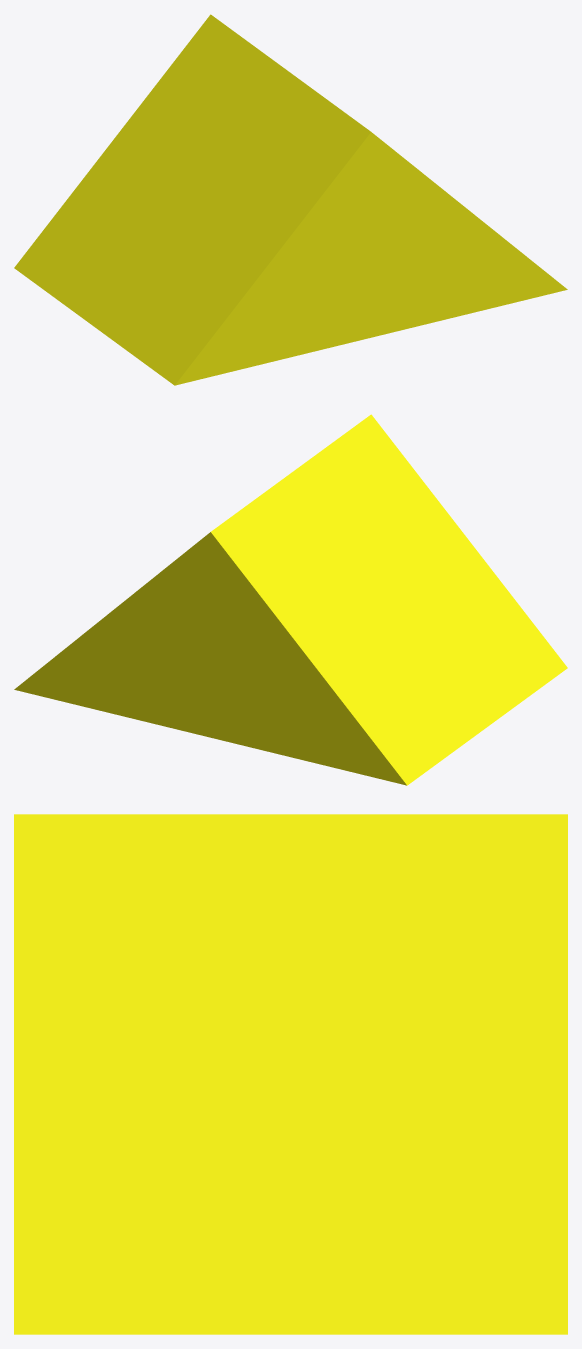
3 renders of one model, top to bottom at view 1: azimuth 30°, elevation 25°; view 2: azimuth 150°, elevation 25°; view 3: azimuth 270°, elevation 25°, orthographic. The views are drawn at different scales.
Visible parts, largest first — view 1: Cube; view 2: Cube; view 3: Cube.
Part boxes in pixels (box(x1,y1,x2,y2)): Cube: box(14, 14, 567, 385); Cube: box(14, 414, 567, 785); Cube: box(14, 814, 567, 1334).
Bounding box in the file's own units: 283 × 141 × 200.
